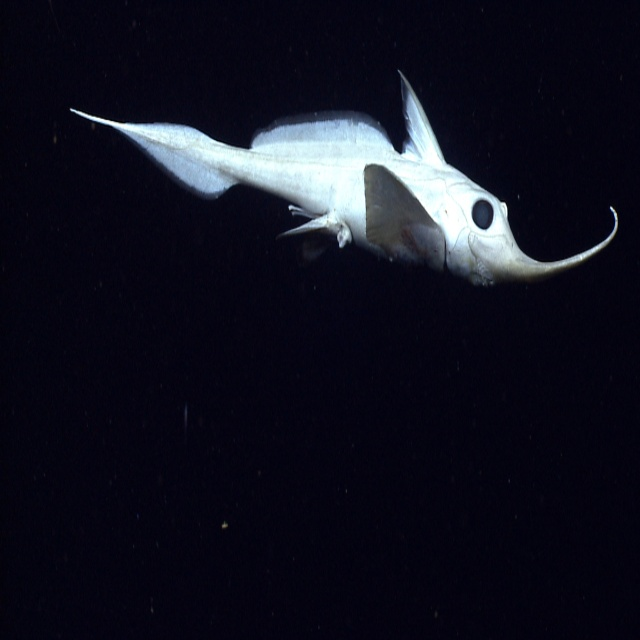Fish: (79, 46, 612, 279)
